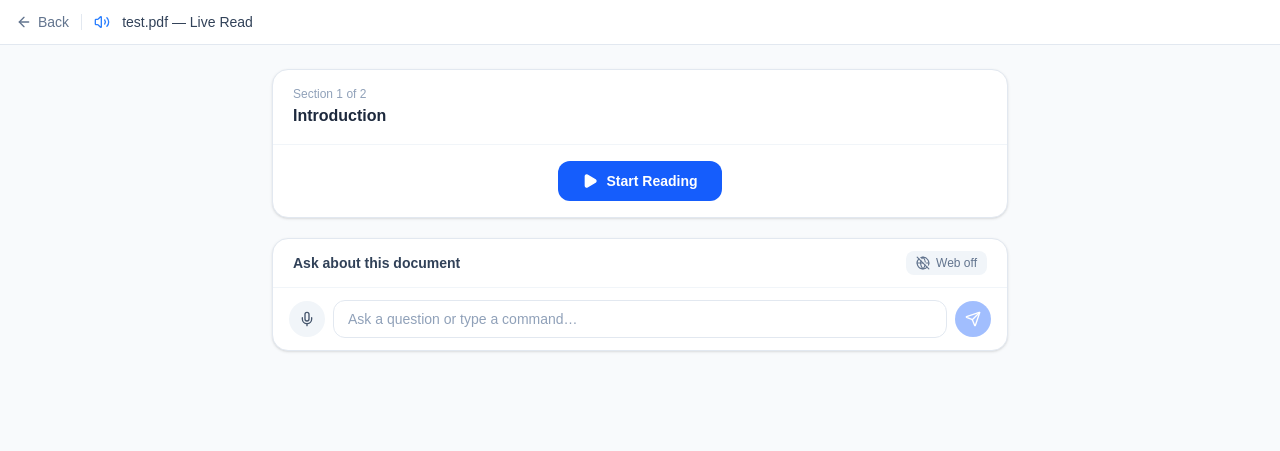
Test: LiveReader — section loading › transitions to loading state when Start Reading is clicked
This screenshot has width=1280, height=451.
Click the button "Start Reading".
click(640, 181)  # box [558,161,722,201]
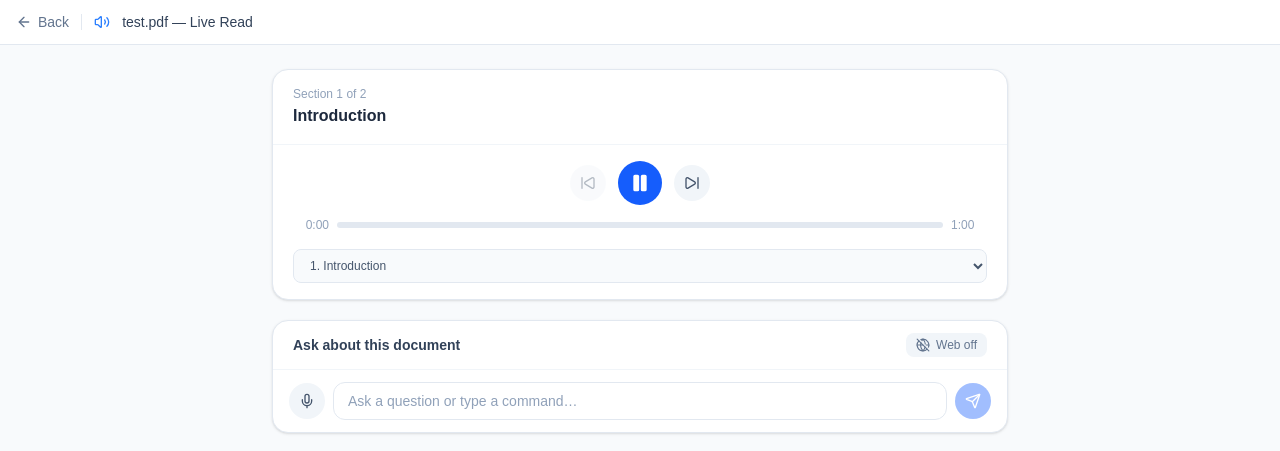
Now the button titled "previous section" is shown, box [570,165,606,201]
